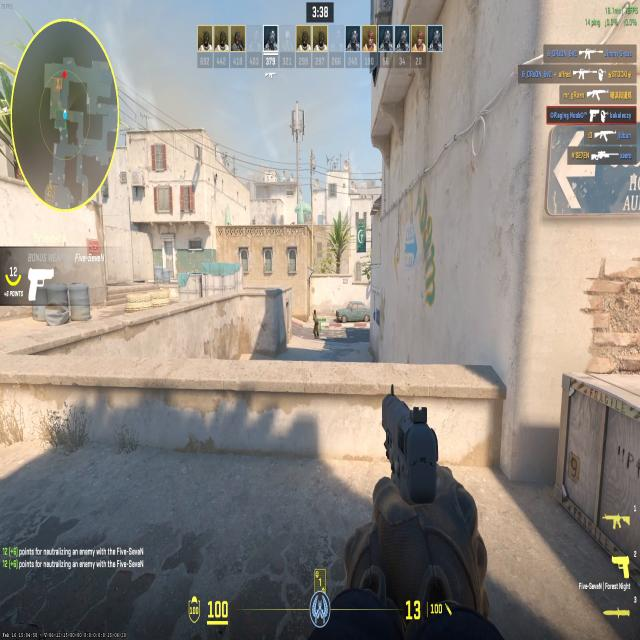player: (308, 307, 322, 338)
